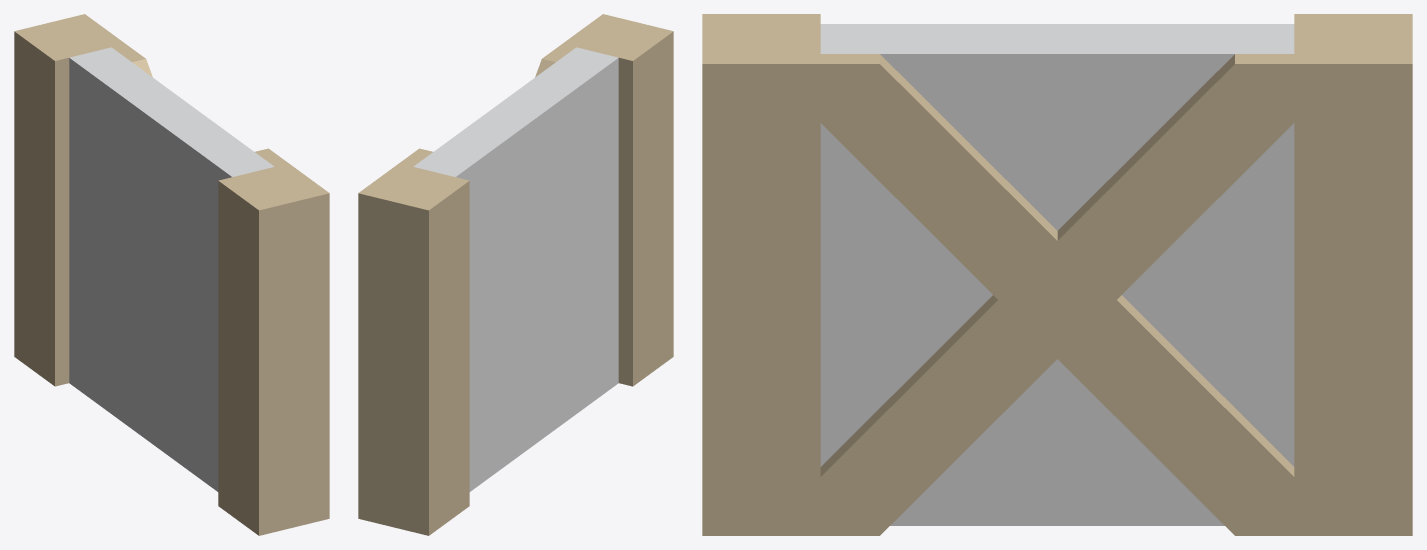
File: Wood_Wall_Double_Cross_01.glb
3 renders of one model, left to right at view 1: azimuth 30°, elevation 25°; view 2: azimuth 150°, elevation 25°; view 3: azimuth 270°, elevation 25°, orthographic. The views are drawn at different scales.
Parts seen in each view (by area): view 1: Mesh1 Wood_Wall_Double_Cross Model; view 2: Mesh1 Wood_Wall_Double_Cross Model; view 3: Mesh1 Wood_Wall_Double_Cross Model.
Part boxes in pixels (x1,y1,x2,y2): Mesh1 Wood_Wall_Double_Cross Model: [14, 14, 329, 535]; Mesh1 Wood_Wall_Double_Cross Model: [358, 14, 673, 535]; Mesh1 Wood_Wall_Double_Cross Model: [702, 14, 1412, 535].
Bounding box in the file's own units: 0.5 × 2.2 × 3.
